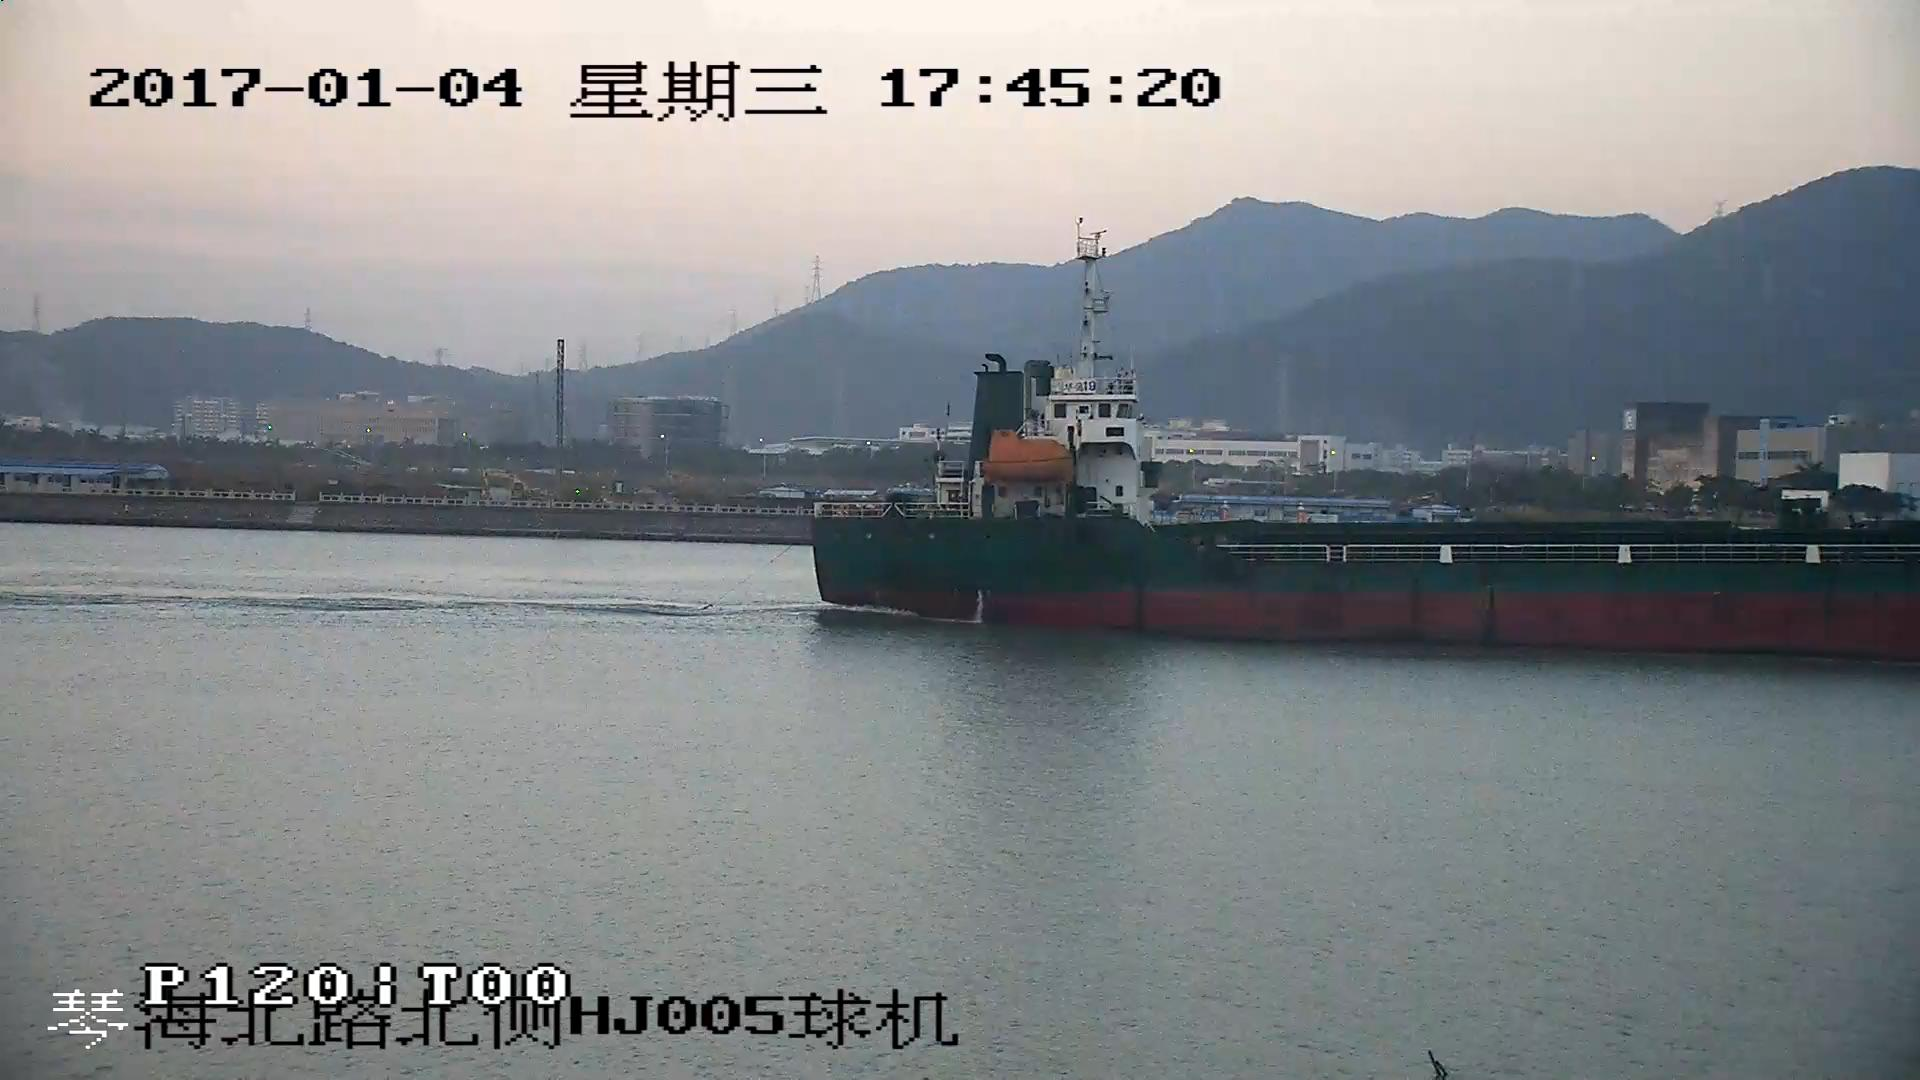general cargo ship: (804, 235, 1920, 654)
